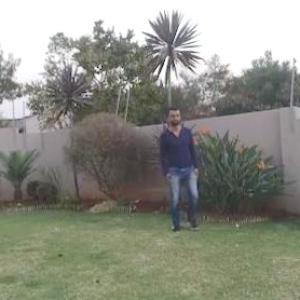follow: (158, 99, 198, 234)
